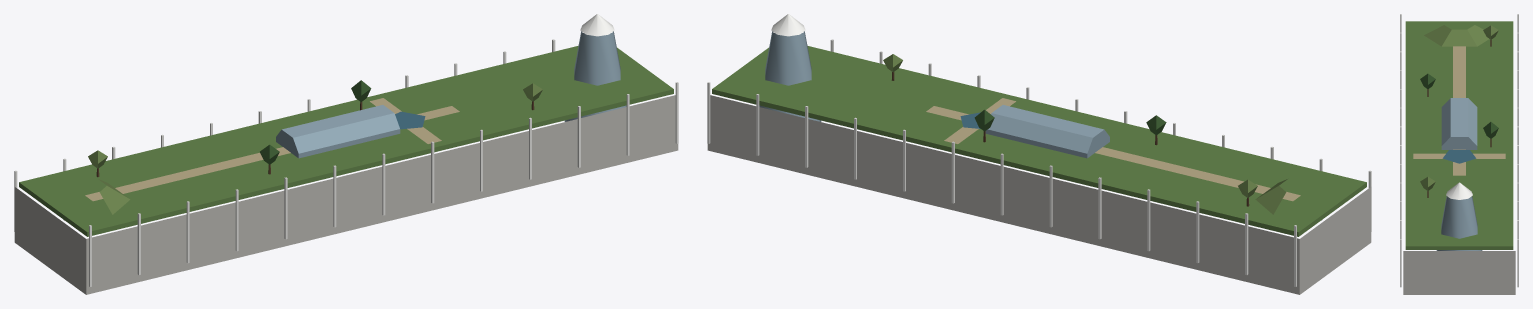
File: mobile-low.glb
3 views of the same model, side by side, from view 1: azimuth 30°, elevation 25°; view 2: azimuth 150°, elevation 25°; view 3: azimuth 270°, elevation 25° (orthographic). The views are drawn at different scales.
Parts seen in each view (by area): view 1: lm.transit-center-park; view 2: lm.transit-center-park; view 3: lm.transit-center-park.
Boxes of the visible parts, box(x1,y1,x2,y2) form: lm.transit-center-park: box(14, 14, 678, 294); lm.transit-center-park: box(707, 14, 1371, 294); lm.transit-center-park: box(1400, 14, 1518, 294).
Size of the model in its own units: 210 by 41 by 46.5.
